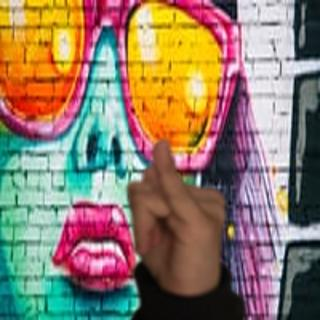HAVE: (115, 139, 240, 301)
